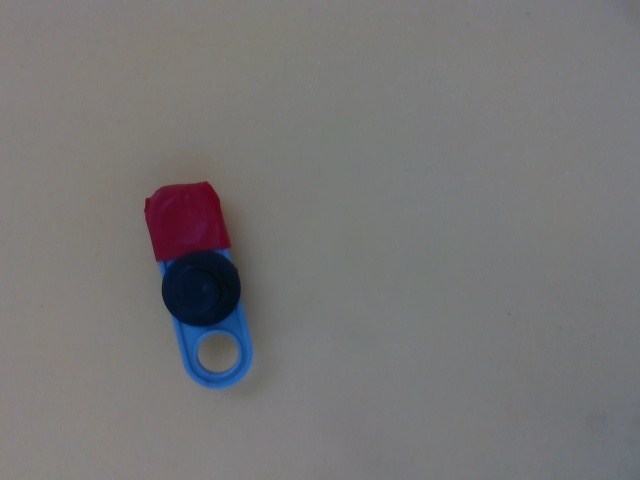part_1_good: (142, 178, 257, 395)
